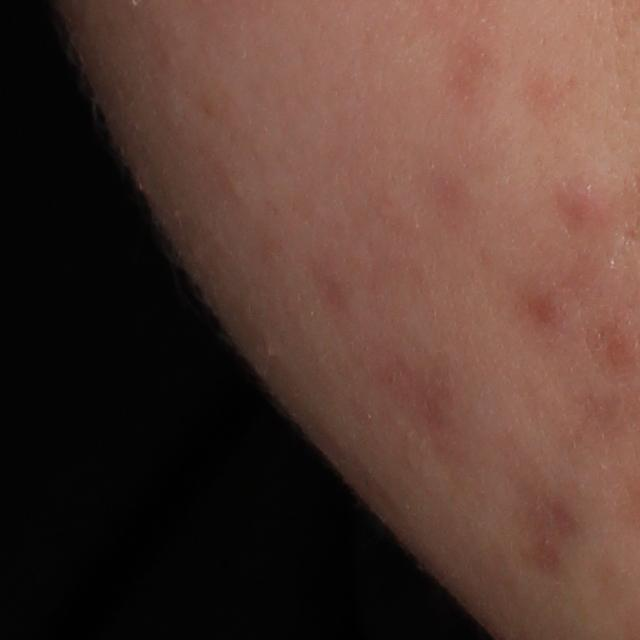papule: (552, 177, 613, 231)
